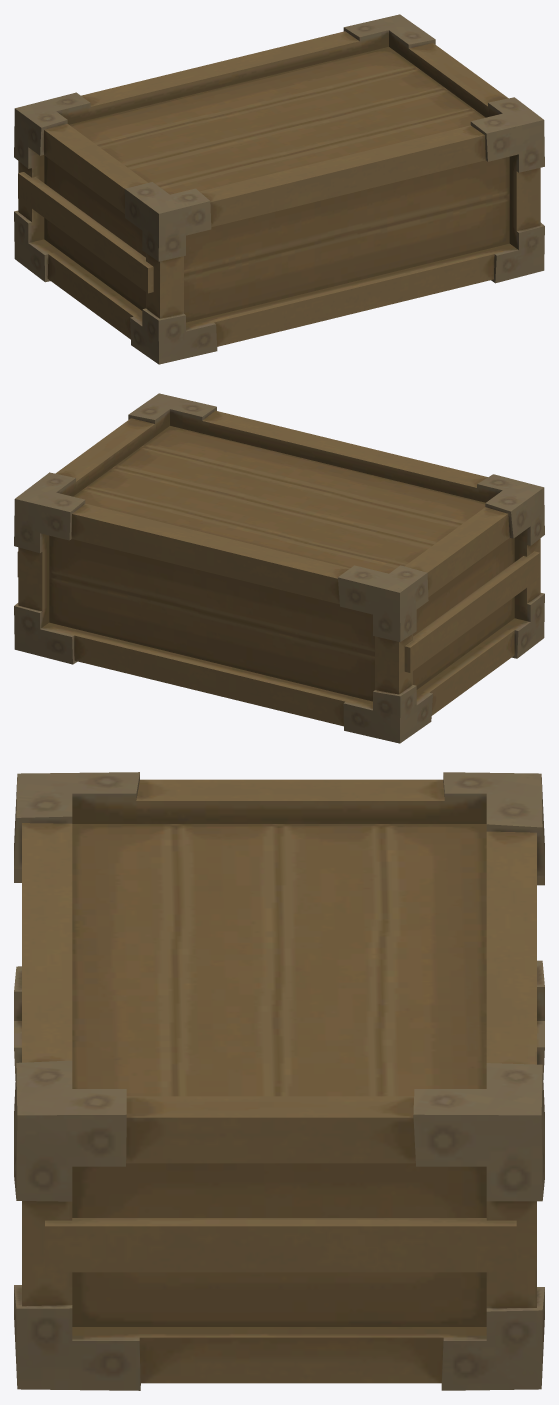
File: SM_wooden_box_03.glb
The picture shows the model from 3 angles, top to bottom: view 1: azimuth 30°, elevation 25°; view 2: azimuth 150°, elevation 25°; view 3: azimuth 270°, elevation 25°; orthographic projection. The views are drawn at different scales.
Parts seen in each view (by area): view 1: SM_wooden_box_03; view 2: SM_wooden_box_03; view 3: SM_wooden_box_03.
Part boxes in pixels (bbox=[...]): SM_wooden_box_03: bbox=[14, 14, 544, 364]; SM_wooden_box_03: bbox=[14, 393, 544, 743]; SM_wooden_box_03: bbox=[14, 772, 544, 1390].
Bounding box in the file's own units: 0.8003 × 0.3 × 0.5153.
1 material, 1 textured.
